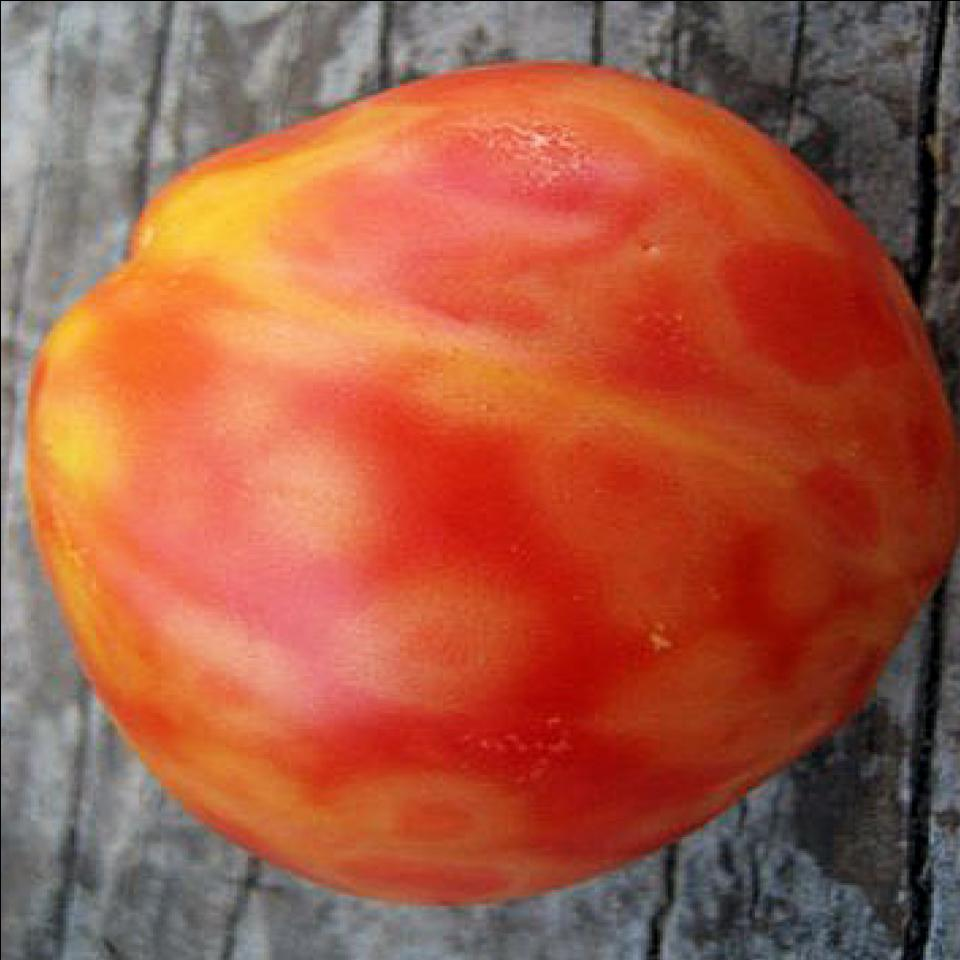Spotted wilt Virus: (22, 62, 952, 912)
